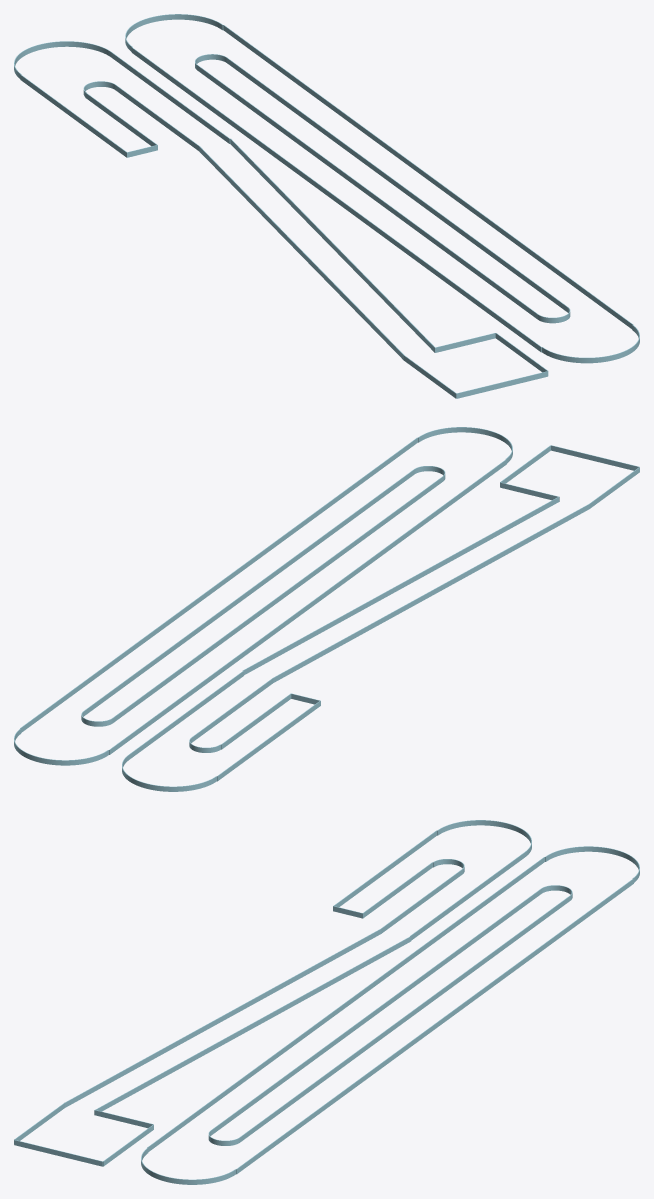
Rendered from 20large_Export.fbx.
3 views of the same model, one above another, from view 1: azimuth 30°, elevation 25°; view 2: azimuth 150°, elevation 25°; view 3: azimuth 330°, elevation 25° (orthographic). The views are drawn at different scales.
Visible parts, largest first — view 1: Mesh2; view 2: Mesh2; view 3: Mesh2.
Boxes of the visible parts, x1,y1,x2,y2 form: Mesh2: (14, 14, 639, 398); Mesh2: (14, 427, 639, 791); Mesh2: (14, 820, 639, 1184).
Bounding box in the file's own units: 145 × 3.54 × 569.
